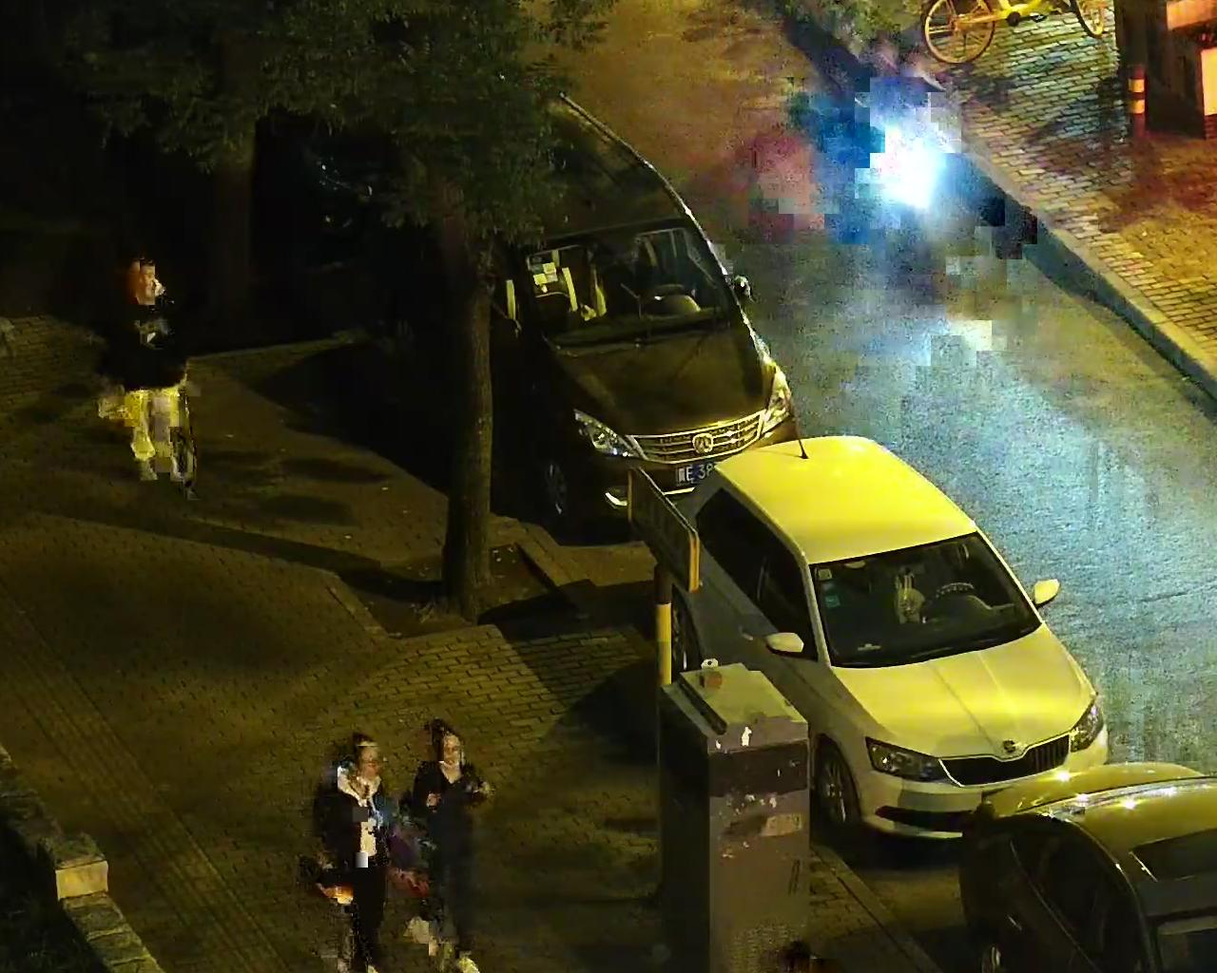person: (797, 2, 941, 222), (93, 242, 197, 501), (309, 729, 414, 973), (396, 717, 493, 973), (752, 932, 872, 973)
